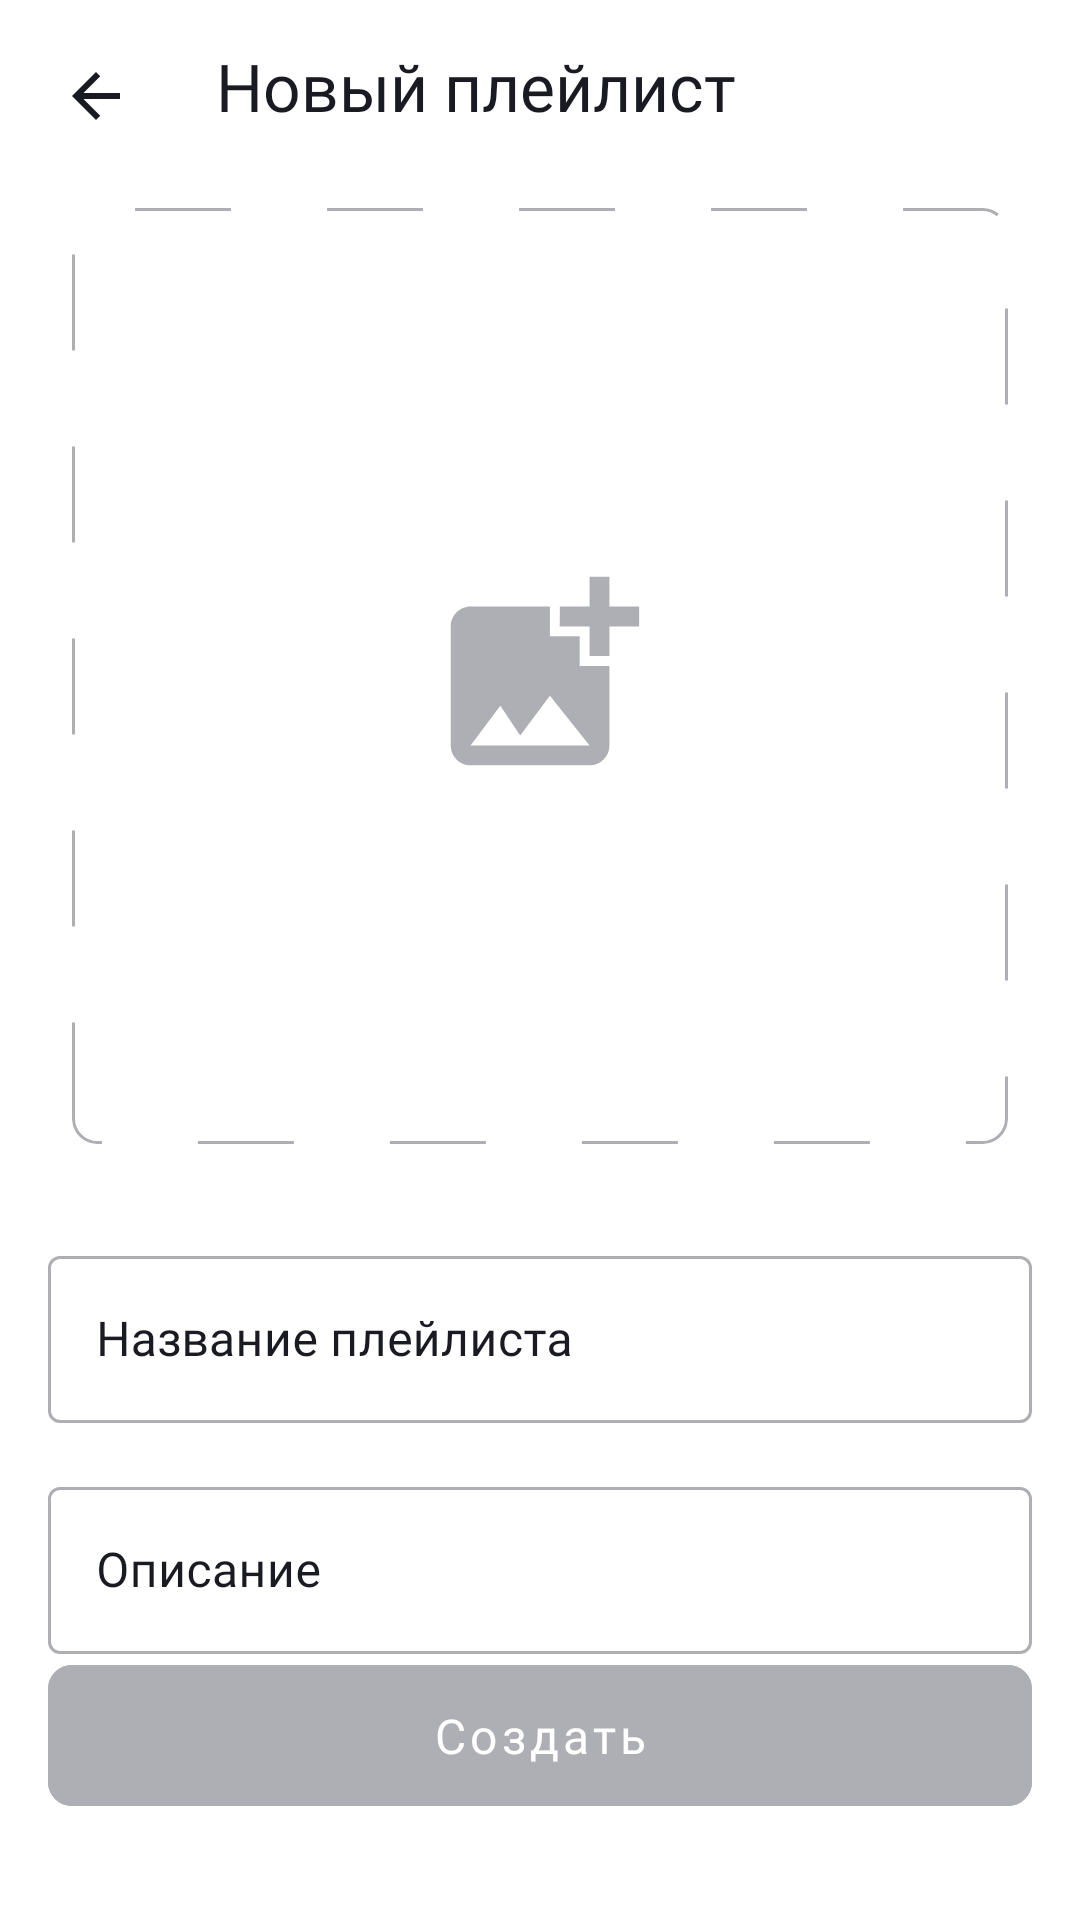

Where icons sit on this 1080px x 1920px app screen, as bbox=(x1, y1, x2, y2):
Назад: bbox=(72, 72, 120, 120)
